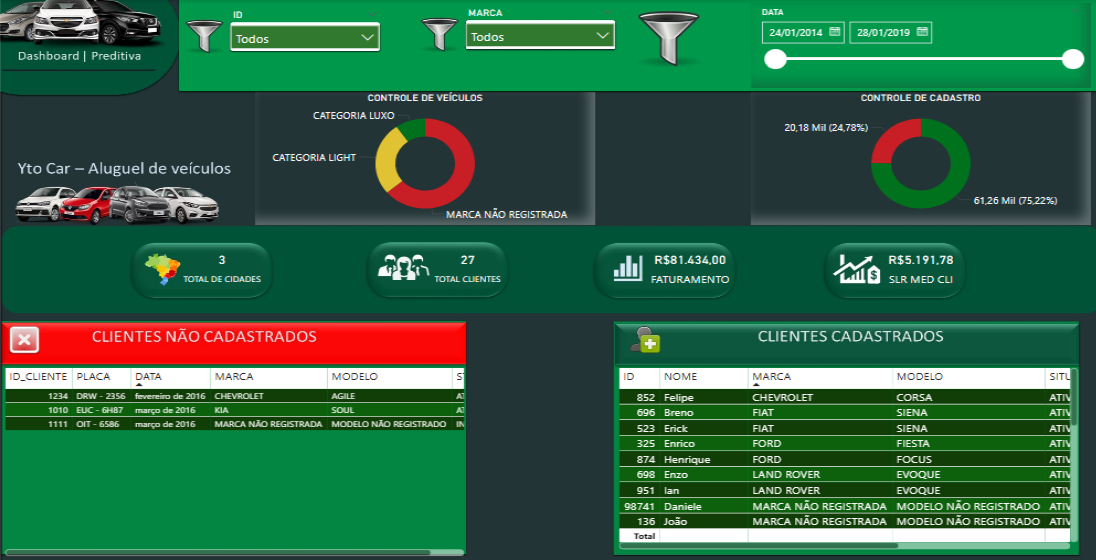

What the dashboard file says about the page in this screenshot:
{"tool":"powerbi","page":{"name":"CLIENTES","canvas":[1280,720],"ordinal":2},"visuals":[{"type":"card","fields":{"Values":["MEDIDAS.TICKET MEDIO SALARIO"]},"box":[1007.6,302,128.5,81],"z":0},{"type":"card","fields":{"Values":["Sum(tb_km.TOTAL VENDA)"]},"box":[739,302,128.5,81],"z":1000},{"type":"card","fields":{"Values":["MEDIDAS.TT CIDADE"]},"box":[195.3,302,125.9,81],"z":2000},{"type":"card","fields":{"Values":["Count(tb_cli.NOME)"]},"box":[480.6,302,127.2,81],"z":3000},{"type":"donutChart","title":"CONTROLE DE CADASTRO","fields":{"Category":["tb_km.SITUAÇÃO CADASTRAL"],"Y":["MEDIDAS.FAT"]},"box":[873.9,118.2,395.8,170.9],"z":4000},{"type":"donutChart","title":"CONTROLE DE VEÍCULOS","fields":{"Y":["MEDIDAS.FAT"],"Category":["tb_km.CATEGORIAS"]},"box":[296.9,118.2,395.8,170.9],"z":5000},{"type":"slicer","fields":{"Values":["tb_cli.ID"]},"box":[258.3,7.7,192.8,86.1],"z":6000},{"type":"slicer","fields":{"Values":["tb_km.MARCA"]},"box":[532,5.1,192.8,86.1],"z":7000},{"type":"slicer","fields":{"Values":["tb_km.DATA"]},"box":[873.9,3.9,395.8,109.2],"z":8000},{"type":"tableEx","fields":{"Values":["INNER JOIN.tb_cli.ID","INNER JOIN.tb_cli.NOME","INNER JOIN.MARCA","INNER JOIN.MODELO","INNER JOIN.SITUAÇÃO CADASTRAL","INNER JOIN.PLACA","Sum(INNER JOIN.TT VENDA)"]},"box":[714.5,467.8,544.9,242.9],"z":9000},{"type":"tableEx","fields":{"Values":["LEFT ANTI.ID_CLIENTE","LEFT ANTI.PLACA","LEFT ANTI.DATA","LEFT ANTI.MARCA","LEFT ANTI.MODELO","LEFT ANTI.SITUAÇÃO CADASTRAL"]},"box":[0,467.8,544.9,251.9],"z":10000}]}

Visuals, with their boxes on the page's 1280x720 design canvas (x1, y1, x2, y2). These are canvas units, not pixel positions in the 1096x560 screenshot, which may show the page scaled, cropped or inside an application window:
card - MEDIDAS.TICKET MEDIO SALARIO: rect(1008, 302, 1136, 383)
card - Sum(tb_km.TOTAL VENDA): rect(739, 302, 868, 383)
card - MEDIDAS.TT CIDADE: rect(195, 302, 321, 383)
card - Count(tb_cli.NOME): rect(481, 302, 608, 383)
"CONTROLE DE CADASTRO" donutChart: rect(874, 118, 1270, 289)
"CONTROLE DE VEÍCULOS" donutChart: rect(297, 118, 693, 289)
slicer - tb_cli.ID: rect(258, 8, 451, 94)
slicer - tb_km.MARCA: rect(532, 5, 725, 91)
slicer - tb_km.DATA: rect(874, 4, 1270, 113)
tableEx - INNER JOIN.tb_cli.ID x INNER JOIN.tb_cli.NOME: rect(714, 468, 1259, 711)
tableEx - LEFT ANTI.ID_CLIENTE x LEFT ANTI.PLACA: rect(0, 468, 545, 720)
